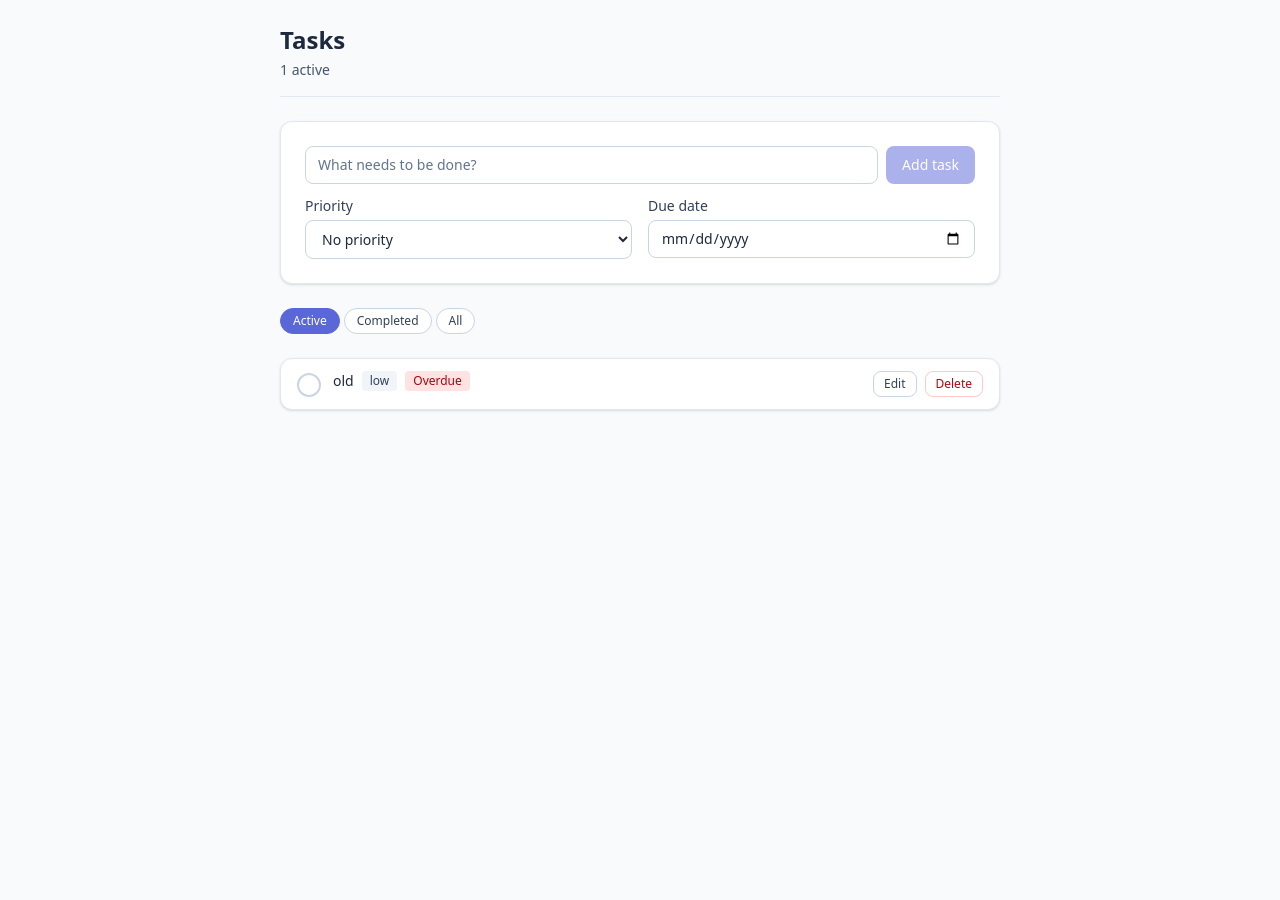
it: Tasks page › edits title, priority and due date in a dialog
The width and height of the screenshot is (1280, 900).
Click the button "Edit" at x=895, y=384, box [873,371,916,397]
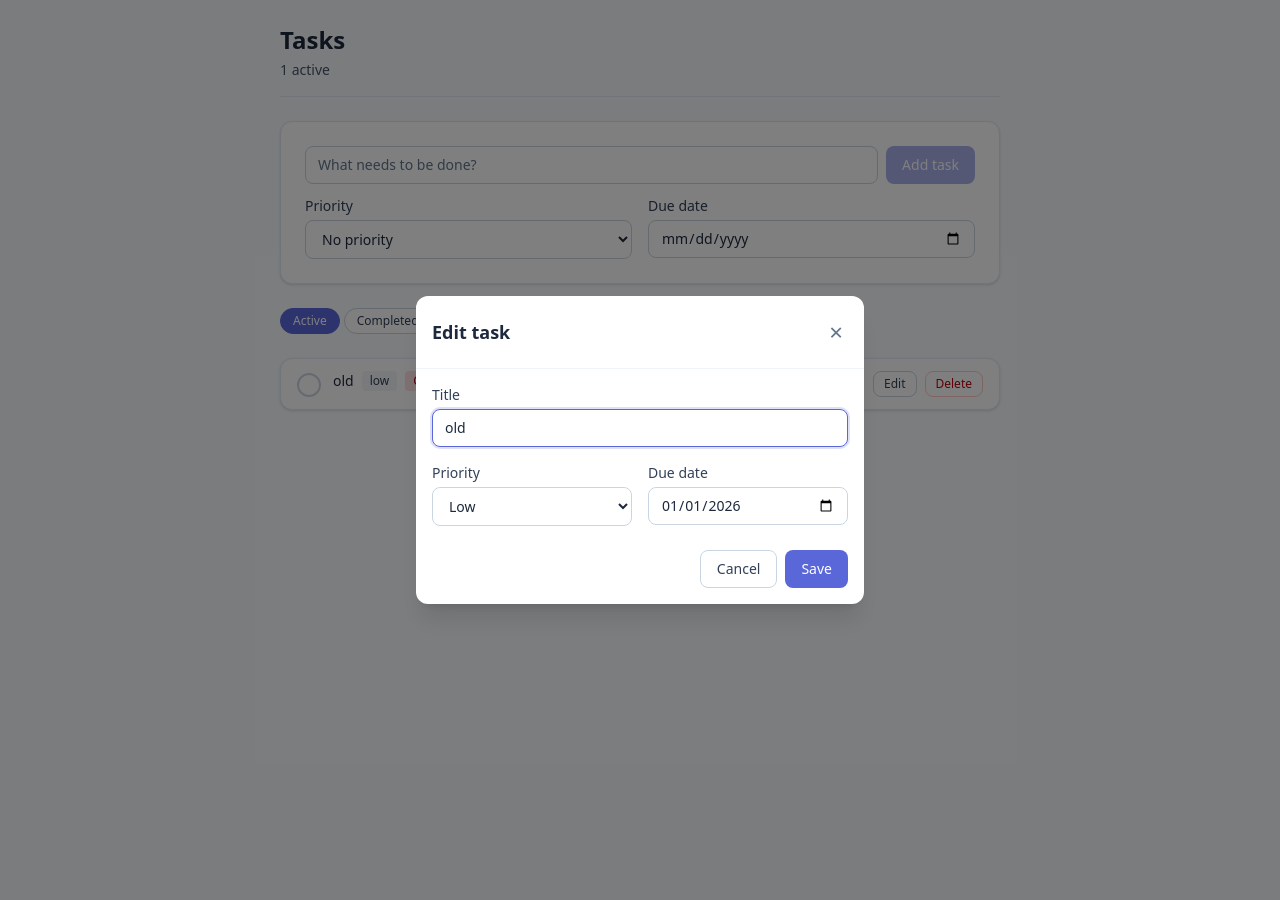
Replace the text in the field labelled "Title" with "new title" at x=640, y=428, box [432,409,848,447]
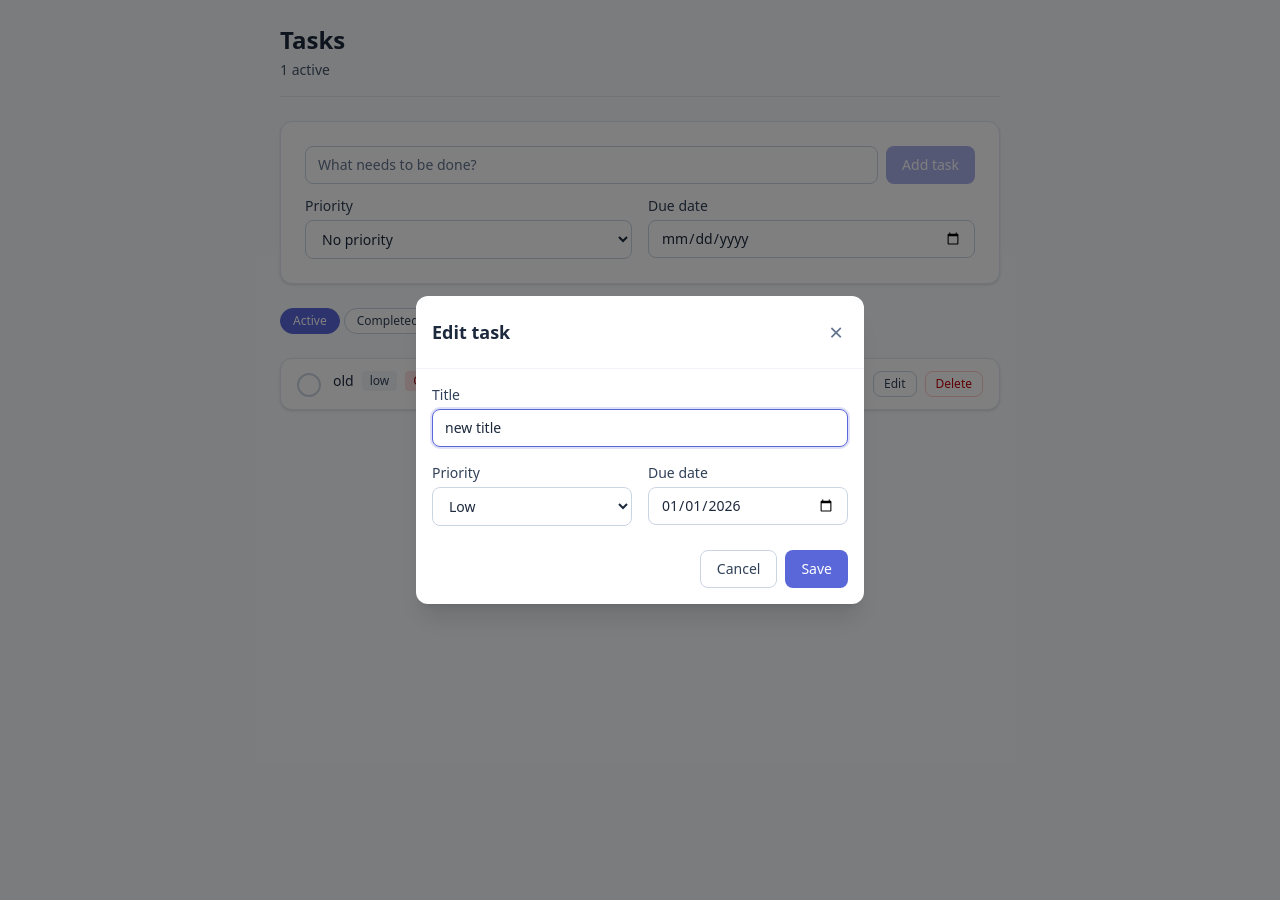
Select "High" in the dropdown labelled "Priority" at x=532, y=506, box [432,487,632,526]
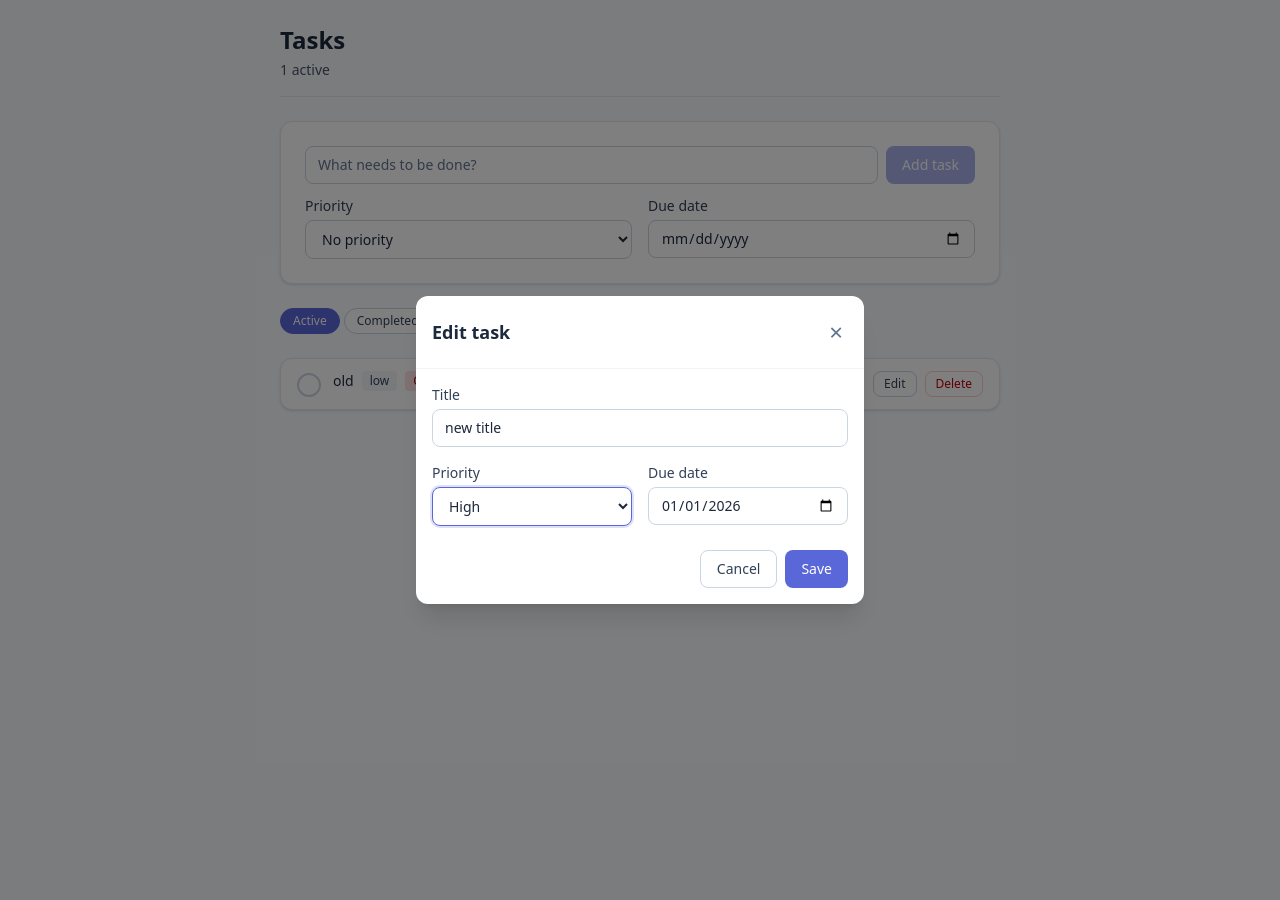
Type "2026-02-03" into the date field labelled "Due date" at x=748, y=506, box [648,487,848,525]
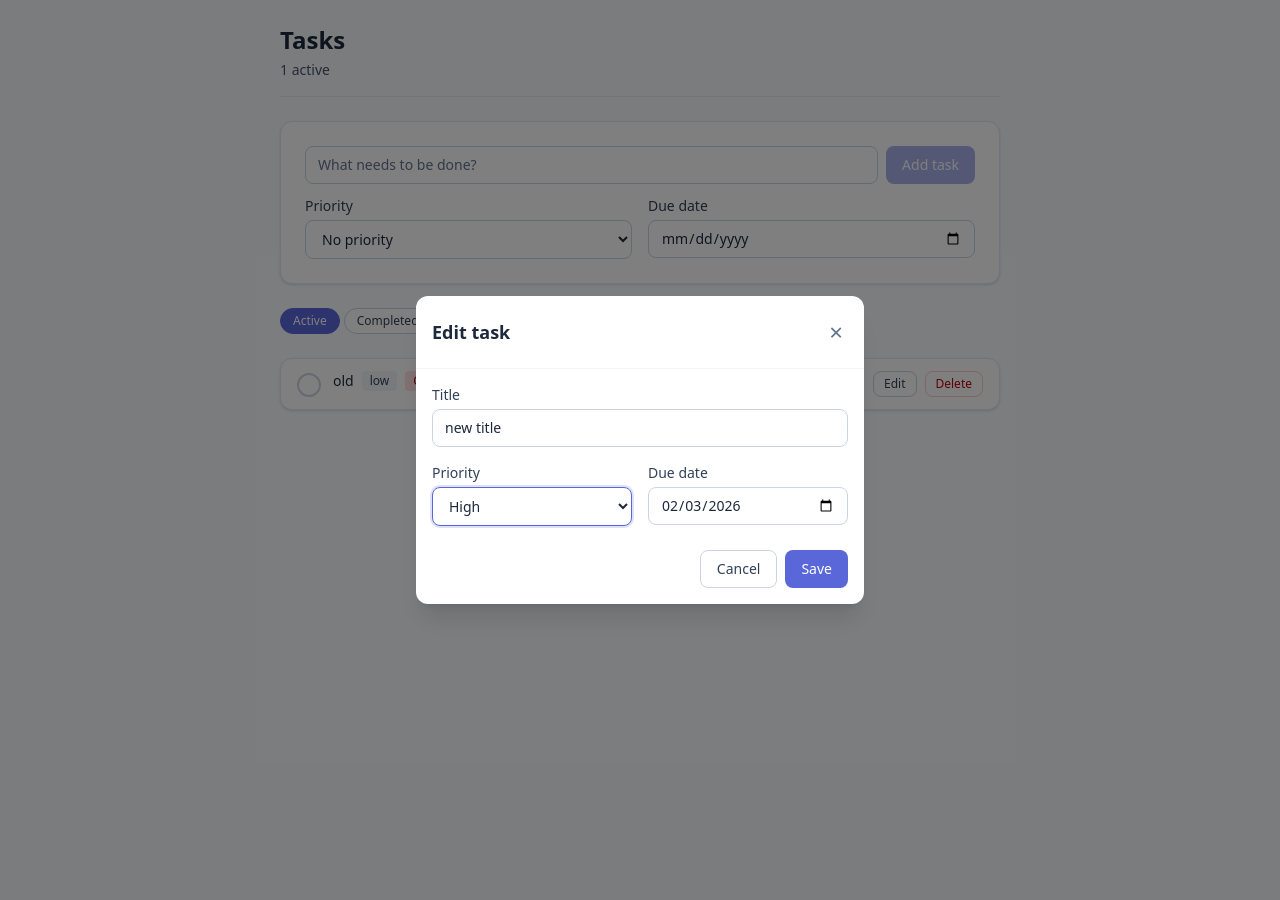
Click the button "Save" at x=817, y=569, box [785,550,848,588]
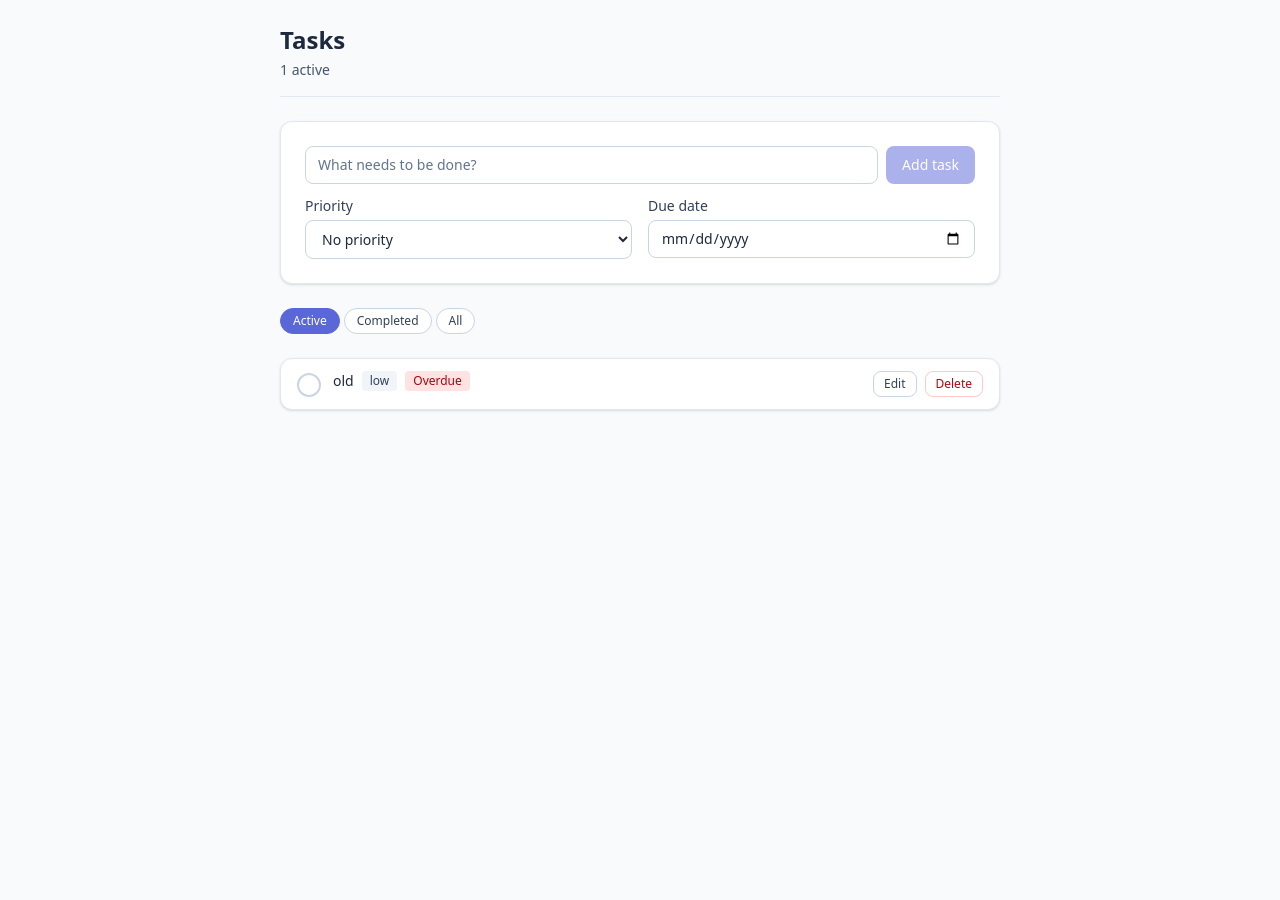
Now the dialog is gone
